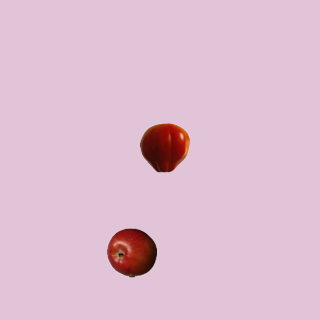Apple Braeburn: (106, 227, 156, 277)
Tomato 1: (139, 122, 189, 172)
